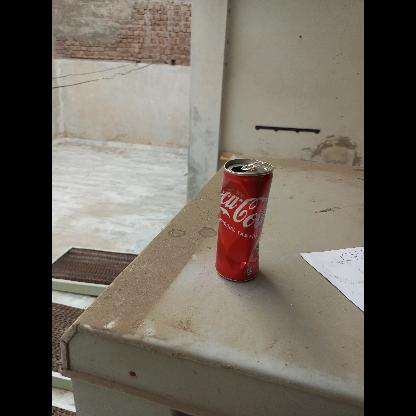Dent_Can: (221, 178, 264, 278), (222, 187, 229, 205)
Lid_Open: (232, 156, 266, 173)
Tin_Can: (214, 152, 276, 284)
